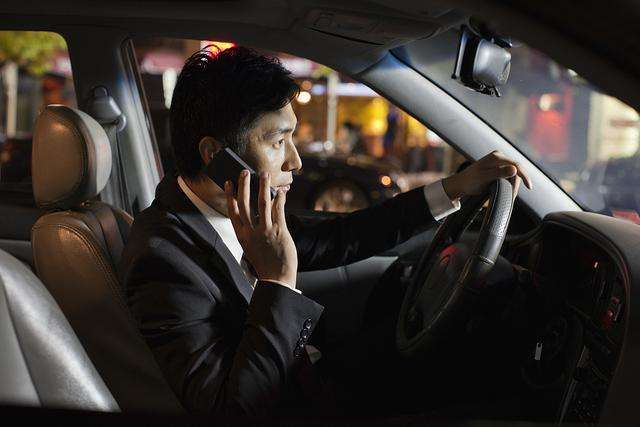calling: (202, 146, 300, 276)
